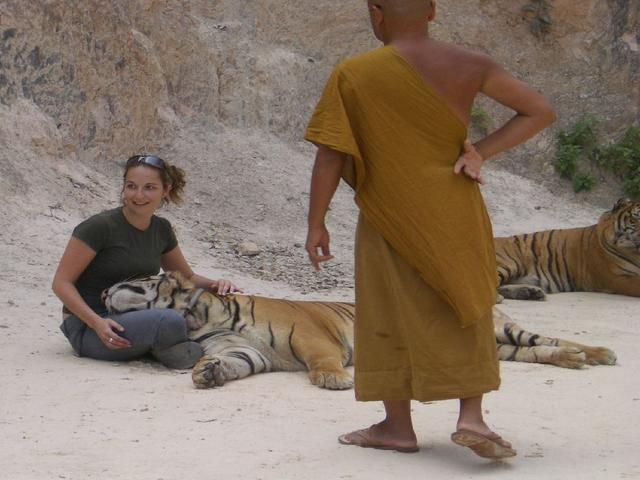tiger: (103, 257, 359, 420), (498, 180, 638, 305)
